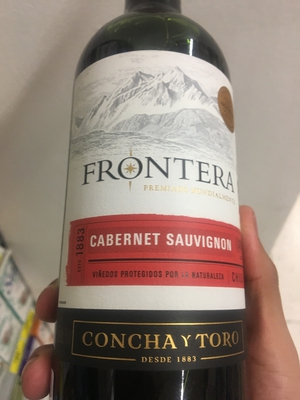frontera cabernet sauvignon: (59, 20, 251, 400)
